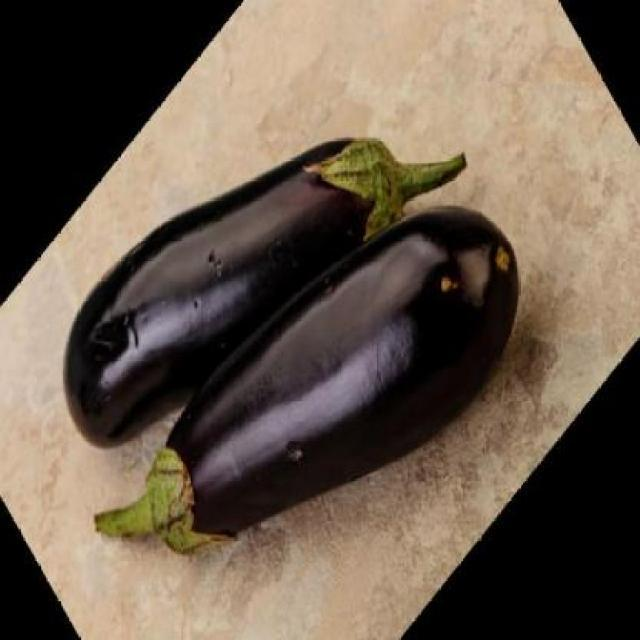eggplant: (64, 135, 521, 566), (61, 134, 471, 454)
